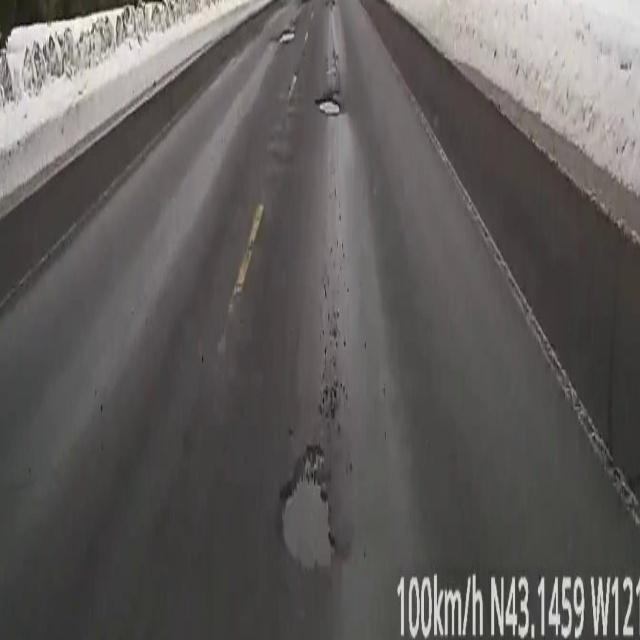pothole: (280, 443, 332, 568), (316, 92, 339, 116), (278, 26, 294, 44)
